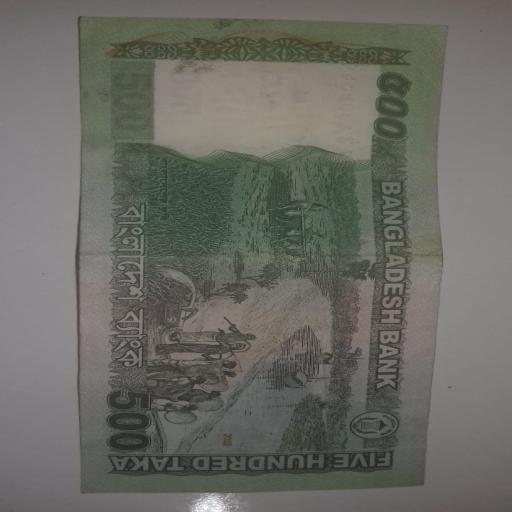500taka: (78, 18, 445, 492)
